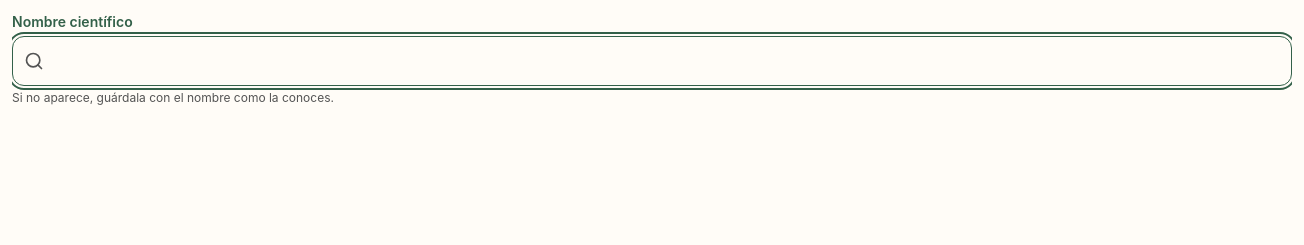
Test: Autocomplete › recorre las sugerencias con las flechas, con vuelta al principio
The width and height of the screenshot is (1304, 245).
Later steps or results of the test are not shown.
Step 1. Type "phal" into the dropdown labelled "Nombre científico" → (652,61), box [12, 36, 1292, 86]
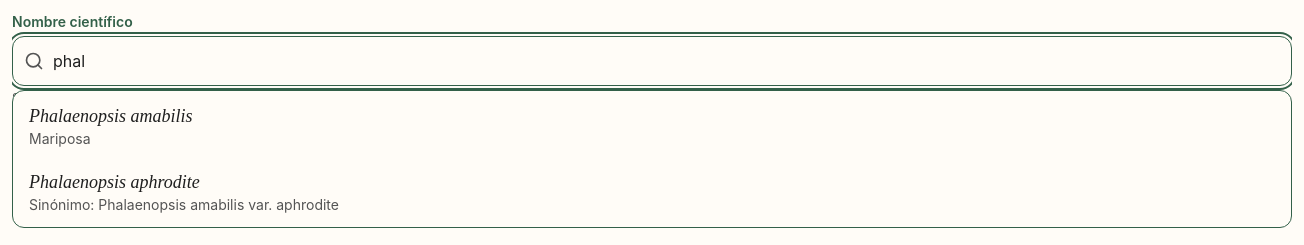
Step 2. Press ArrowDown in the dropdown labelled "Nombre científico", box [12, 36, 1292, 86]
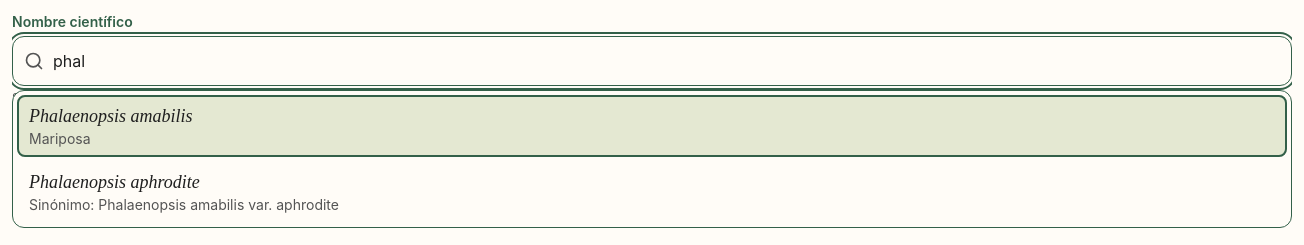
Now the option "Phalaenopsis amabilis Mariposa" is selected, box [17, 95, 1287, 157]
